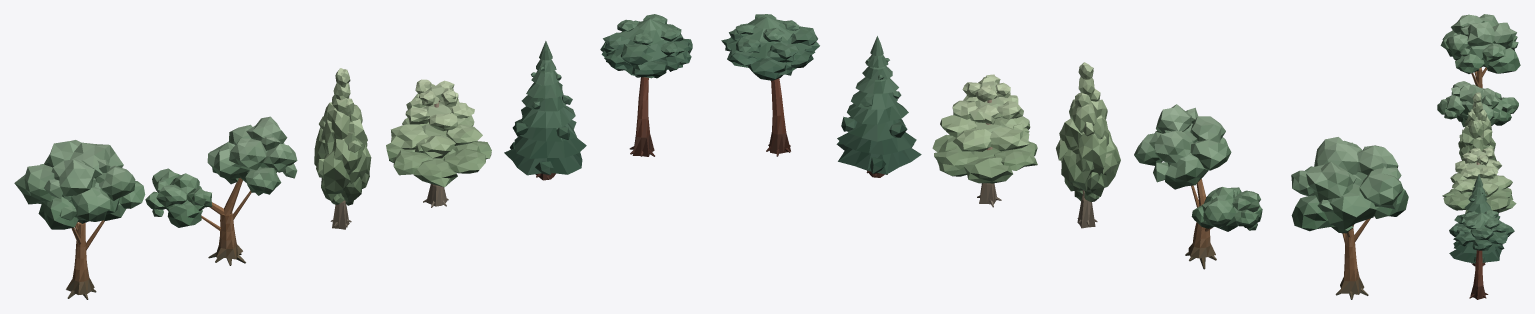
File: grove-tree-pack-vol1.glb.staged.glb
The picture shows the model from 3 angles, left to right: view 1: azimuth 30°, elevation 25°; view 2: azimuth 150°, elevation 25°; view 3: azimuth 270°, elevation 25°; orthographic projection. The views are drawn at different scales.
Parts seen in each view (by area): view 1: canopy (×6), trunk (×3); view 2: canopy (×6), trunk (×3); view 3: canopy (×6), trunk (×2).
Boxes of the visible parts, x1=… form: canopy (×6): x1=14, y1=14, x2=692, y2=229; trunk (×3): x1=66, y1=77, x2=654, y2=299; canopy (×6): x1=721, y1=14, x2=1408, y2=233; trunk (×3): x1=766, y1=78, x2=1370, y2=299; canopy (×6): x1=1437, y1=14, x2=1520, y2=263; trunk (×2): x1=1469, y1=67, x2=1488, y2=299.
Size of the model in its own units: 38.42 by 9.07 by 6.19.
